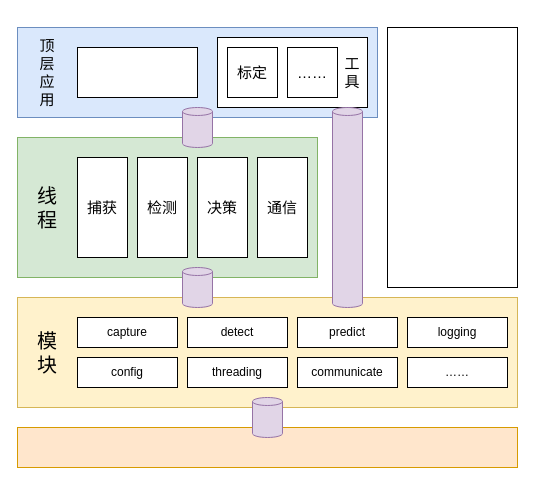
Some shapes in this 535 by 485 pixel diagram are drawn without their labels. Each missing label, with the box of its shape:
/src 文件夹 众多模块文件夹 线程 thread/ 工具 tool/ 主程序 main.cpp: (386, 26, 518, 288)
RMCV主程序: (76, 46, 198, 98)
第三方库: (16, 426, 518, 468)
